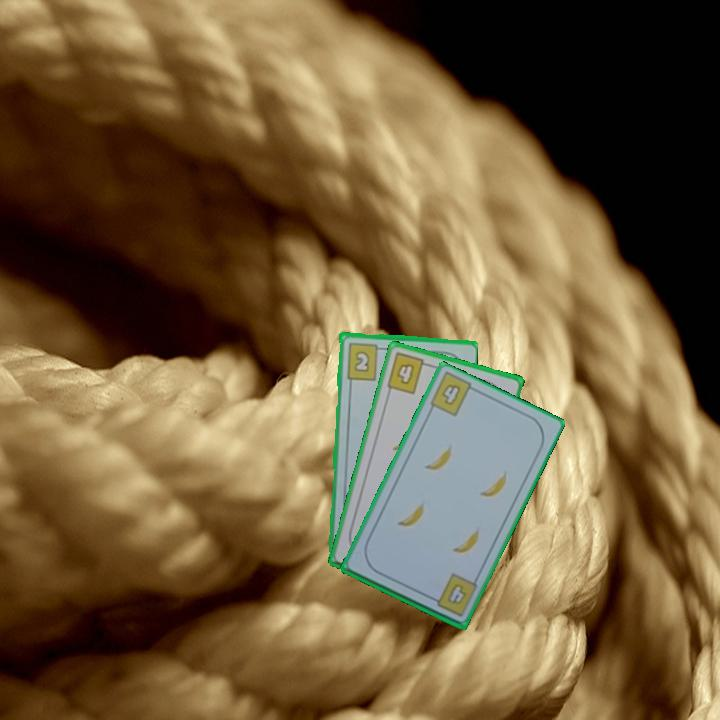2b: (343, 339, 386, 382)
4b: (426, 570, 478, 619), (383, 349, 434, 397), (438, 380, 464, 408)
